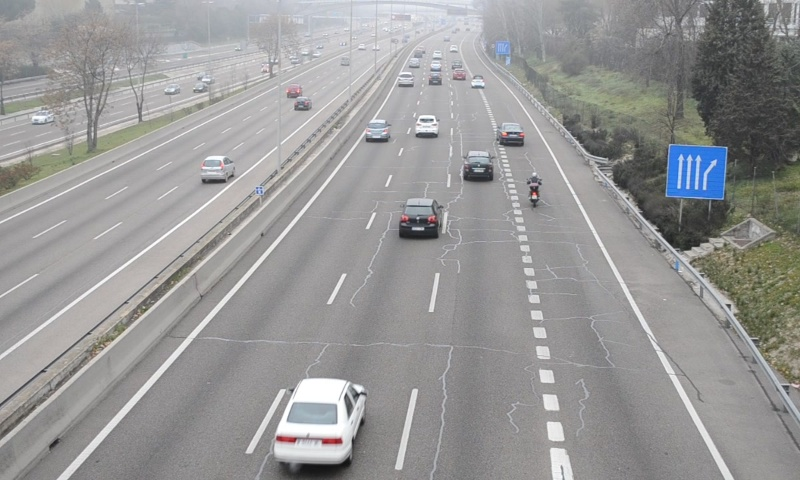car: (271, 377, 367, 460), (400, 197, 442, 238), (462, 151, 493, 180), (496, 121, 525, 146), (364, 118, 391, 144), (414, 115, 440, 138), (398, 70, 413, 86)
motorcycle: (526, 171, 542, 209)
